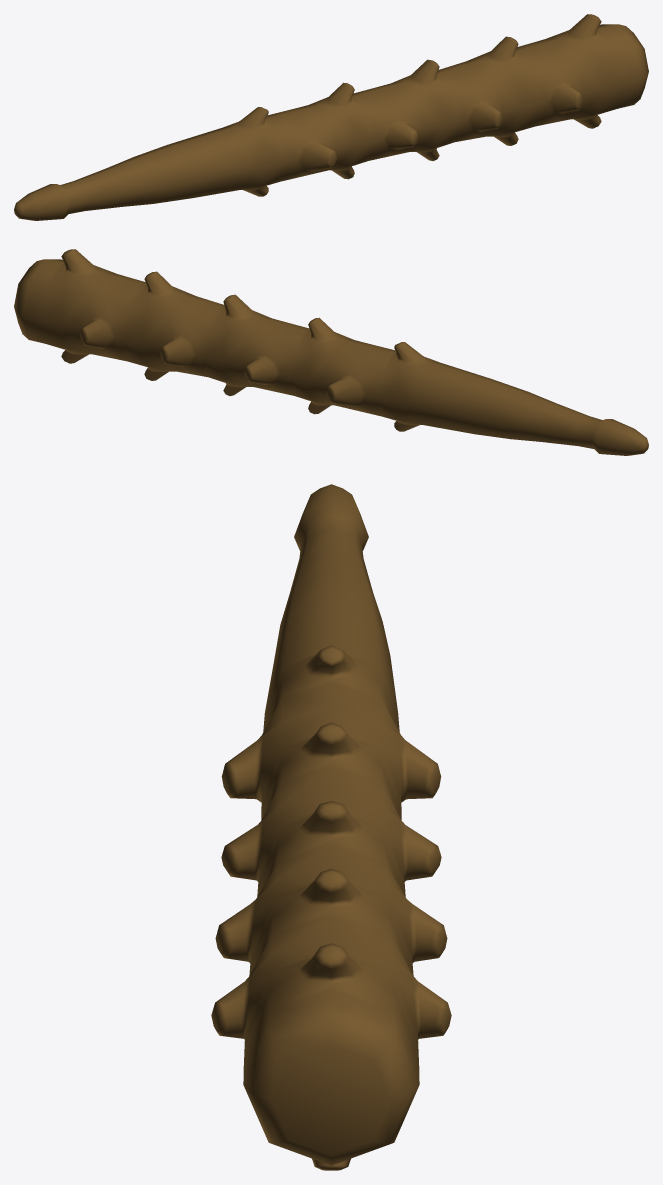
The model's file is SpikedClub.fbx.
3 renders of one model, top to bottom at view 1: azimuth 30°, elevation 25°; view 2: azimuth 150°, elevation 25°; view 3: azimuth 270°, elevation 25°, orthographic. The views are drawn at different scales.
Parts seen in each view (by area): view 1: SpikedClub; view 2: SpikedClub; view 3: SpikedClub.
Part boxes in pixels (x1=…): SpikedClub: x1=14, y1=14, x2=648, y2=220; SpikedClub: x1=14, y1=249, x2=648, y2=455; SpikedClub: x1=211, y1=484, x2=451, y2=1170.
Bounding box in the file's own units: 12.83 × 2.23 × 2.16.
